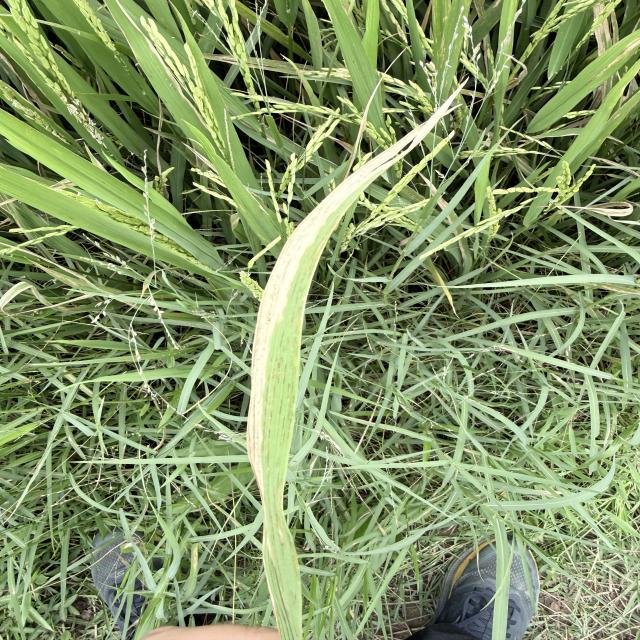Chay bia la: (243, 92, 458, 478)
